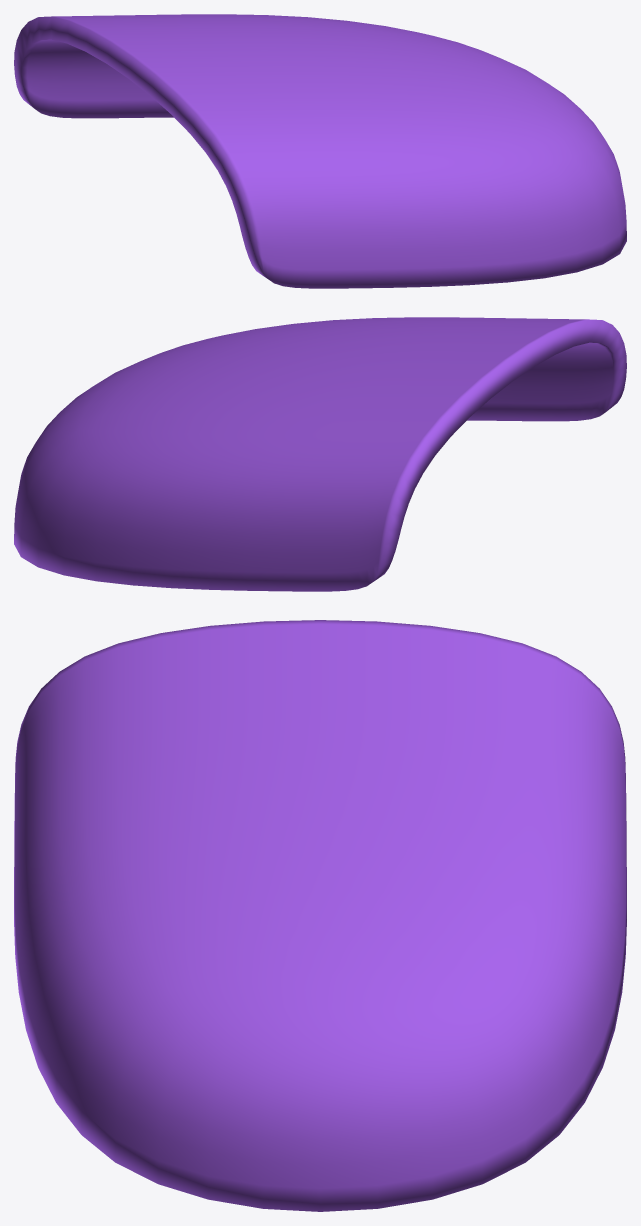
Rendered from SM_Shampoo_Cover_C.fbx.
The picture shows the model from 3 angles, top to bottom: view 1: azimuth 30°, elevation 25°; view 2: azimuth 150°, elevation 25°; view 3: azimuth 270°, elevation 25°; orthographic projection. The views are drawn at different scales.
Parts seen in each view (by area): view 1: Cube.002; view 2: Cube.002; view 3: Cube.002.
Boxes of the visible parts, box(x1,y1,x2,y2) form: Cube.002: box(14, 14, 626, 288); Cube.002: box(14, 317, 626, 591); Cube.002: box(14, 620, 626, 1211).
Bounding box in the file's own units: 37.05 × 18.95 × 33.84.
